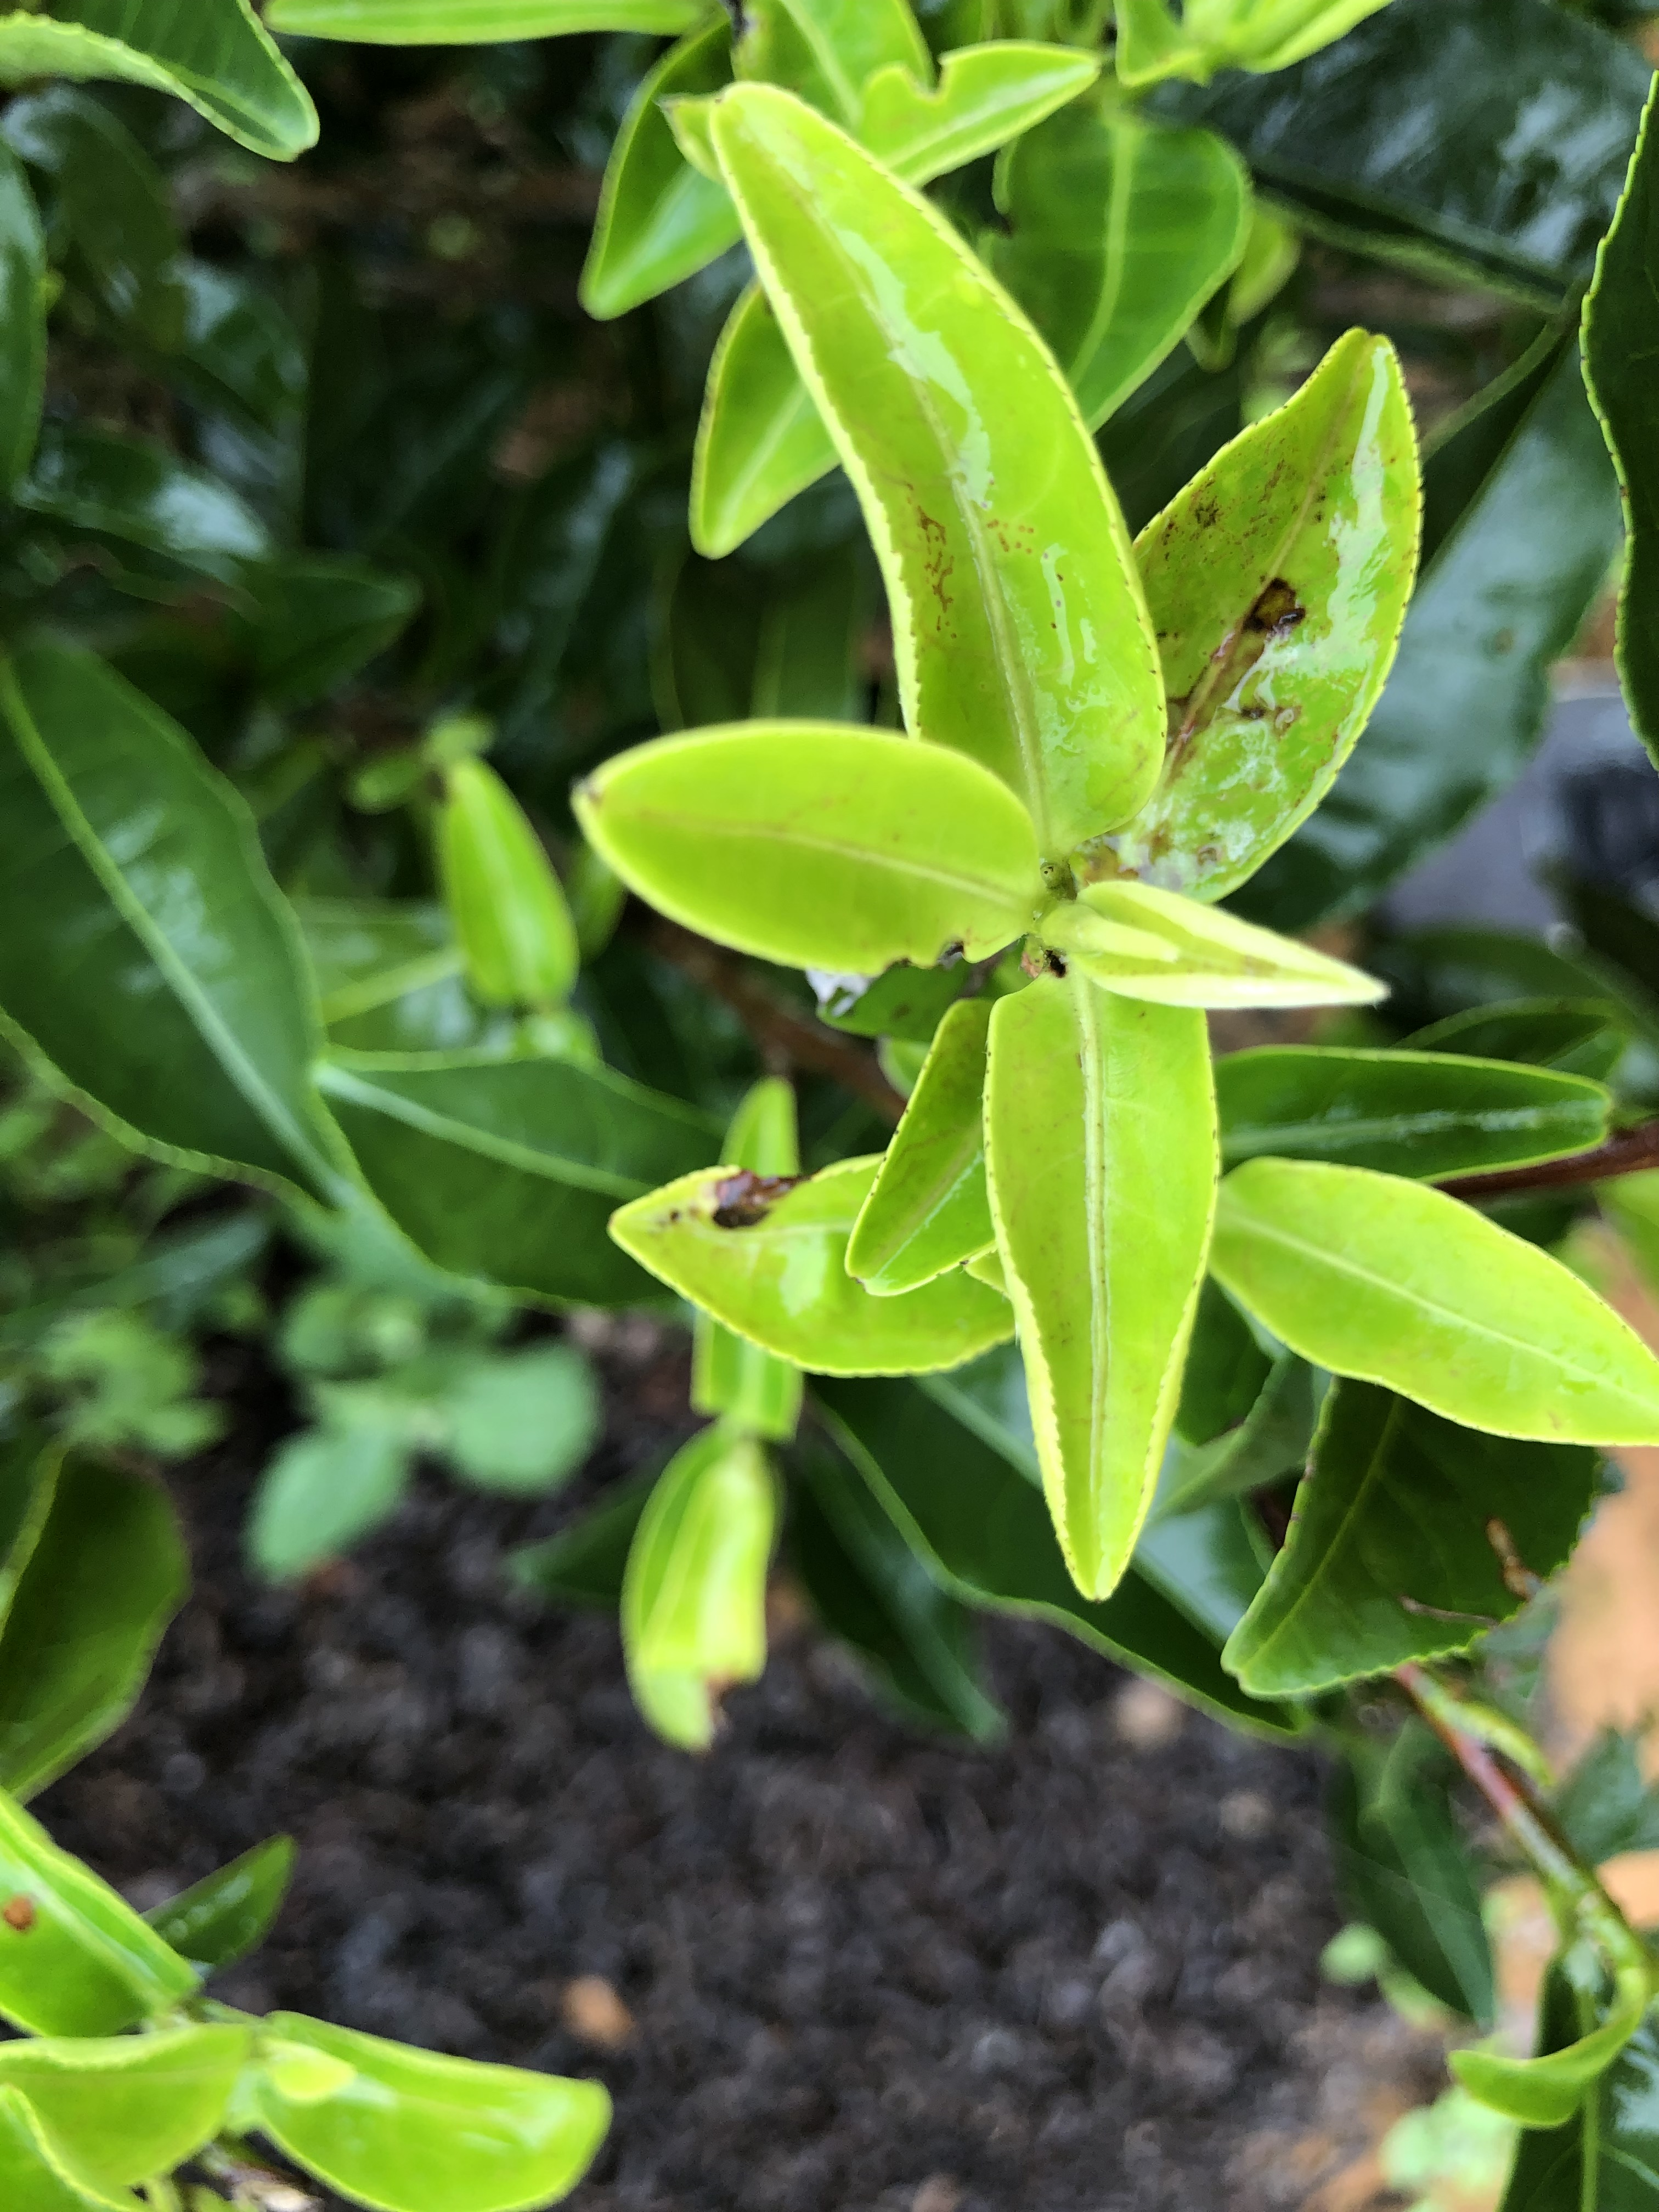formosa: (979, 935, 1215, 1594)
mosquito_early: (1112, 300, 1417, 920)
thrips: (713, 77, 1171, 927), (1107, 305, 1410, 914)
